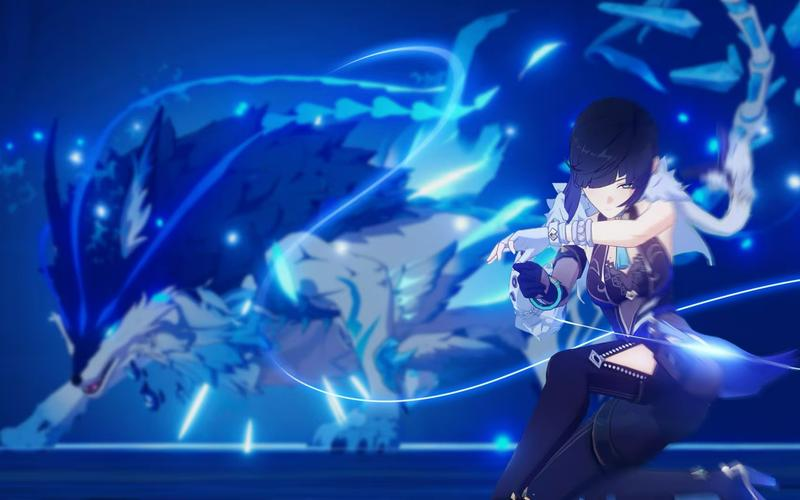夜兰: (483, 97, 723, 500)
